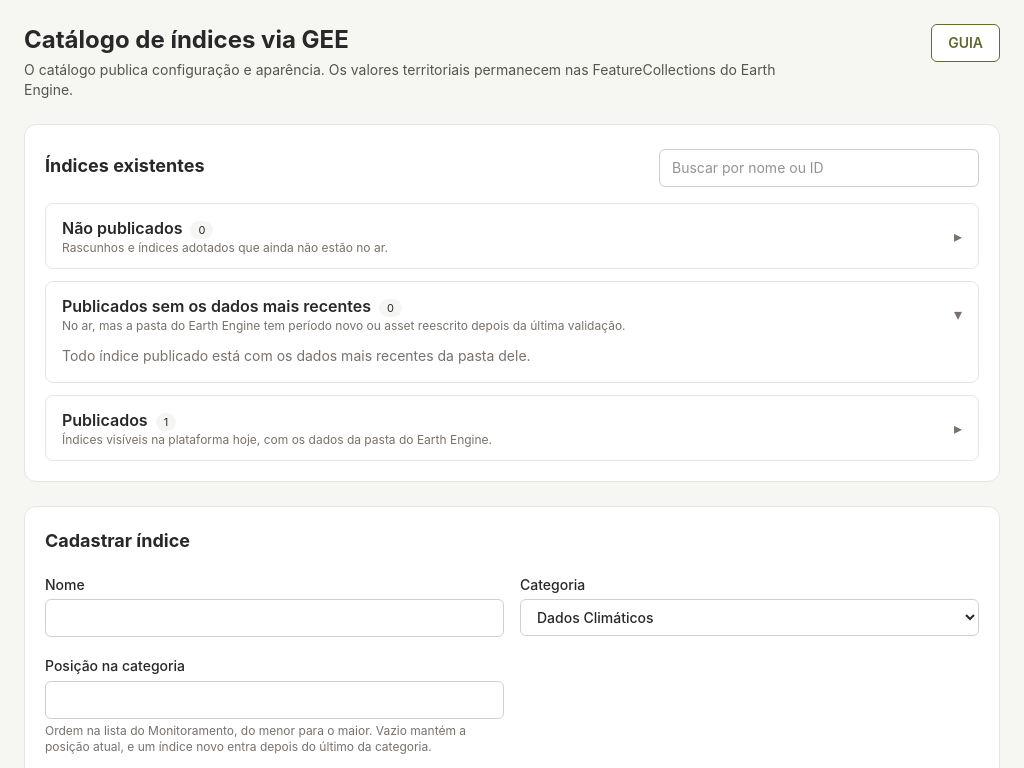
Test: IndexCatalogScreen v2 › não oferece Republicar quando a edição do rascunho apagou a prévia
Click the button "Publicados": coordinates (105, 420) 46,396 -> 978,460
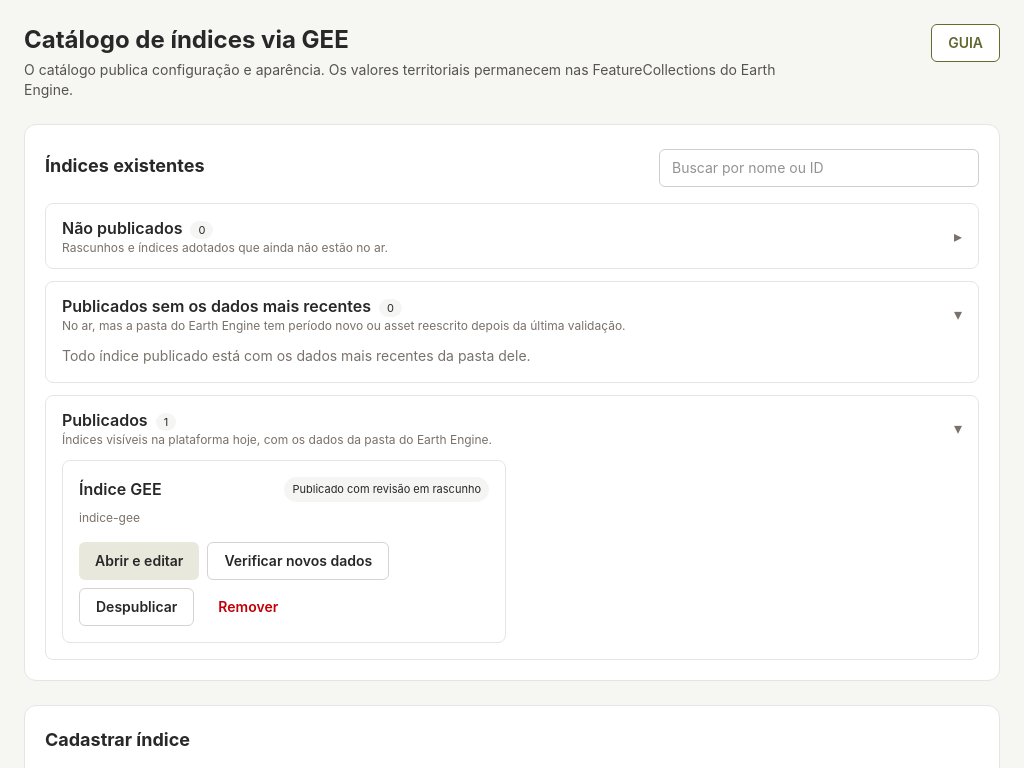
Now the button "Despublicar" is shown, box 79,588 -> 194,626
Now the text "Publicado com revisão em rascunho" is shown, box 284,477 -> 489,502
